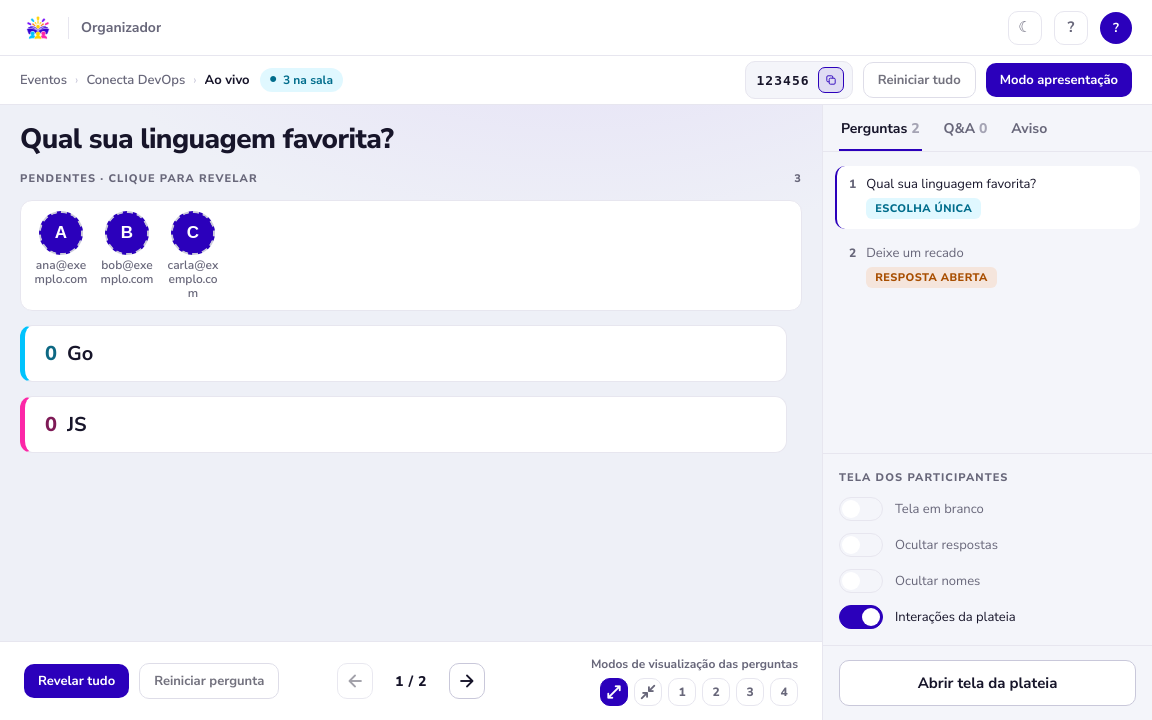
Test case: Preview da apresentação › pula direto pra uma pergunta clicando nela no trilho
The image size is (1152, 720).
expect the heading "Qual sua linguagem favorita?" is shown: met, box [20,120,393,158]
Click the text "Deixe um recado" at point(915, 253), box [866,245,964,262]
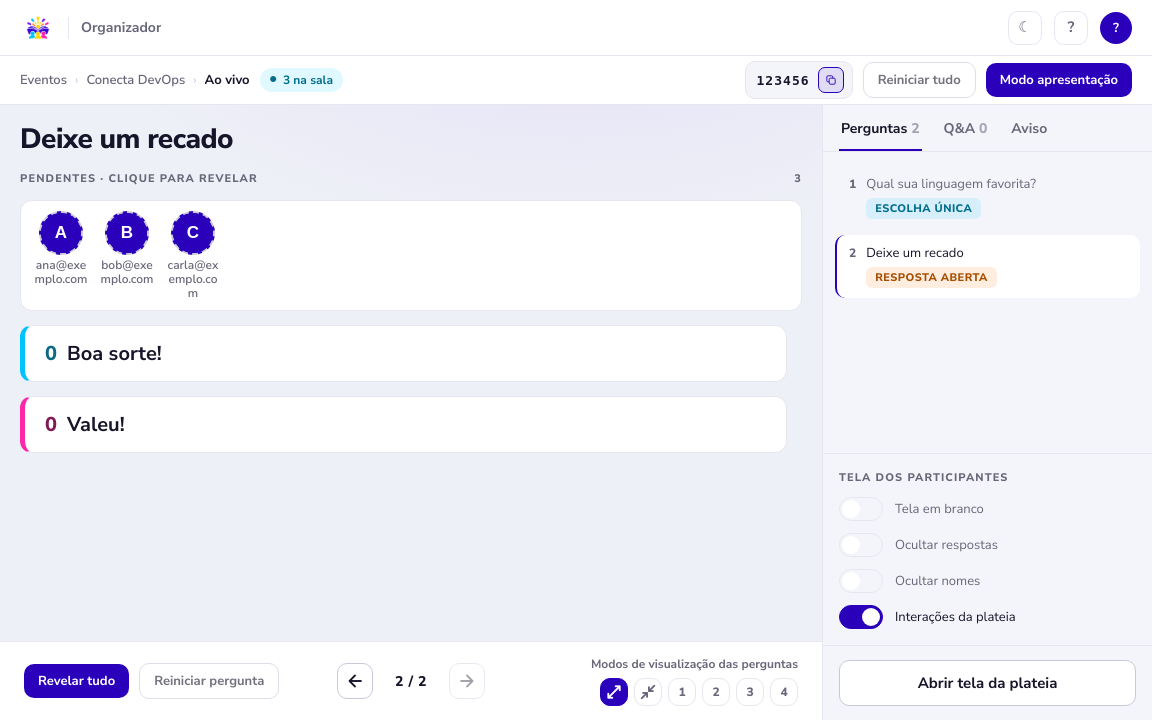
expect the text "2 / 2" is shown: met, box [395,672,427,690]
